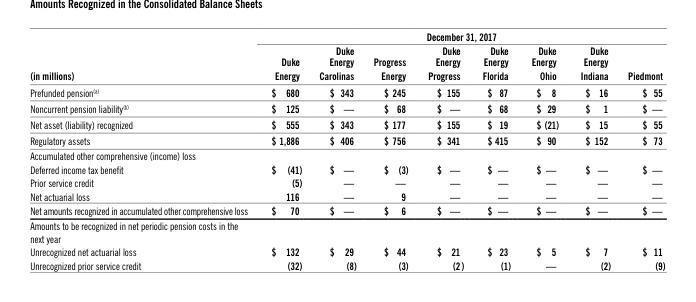table: (29, 29, 664, 271)
table column: (29, 29, 258, 271), (417, 29, 472, 271), (310, 29, 364, 271), (364, 29, 417, 271), (258, 29, 310, 271), (520, 29, 569, 271), (569, 29, 618, 271), (472, 29, 520, 271), (618, 29, 664, 271)
table column header: (29, 29, 664, 83)
table projected row header: (29, 217, 664, 244), (29, 147, 664, 161)
table row: (29, 43, 664, 83), (29, 217, 664, 244), (29, 83, 664, 100), (29, 100, 664, 116), (29, 116, 664, 132), (29, 132, 664, 147), (29, 188, 664, 203), (29, 29, 664, 43), (29, 147, 664, 161), (29, 161, 664, 175), (29, 203, 664, 217), (29, 244, 664, 258), (29, 175, 664, 188), (29, 258, 664, 271)
table spanning cell: (29, 29, 258, 83), (258, 29, 664, 43)
